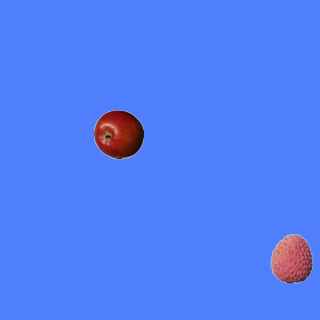Apple Braeburn: (93, 109, 143, 159)
Lychee: (266, 233, 316, 283)
